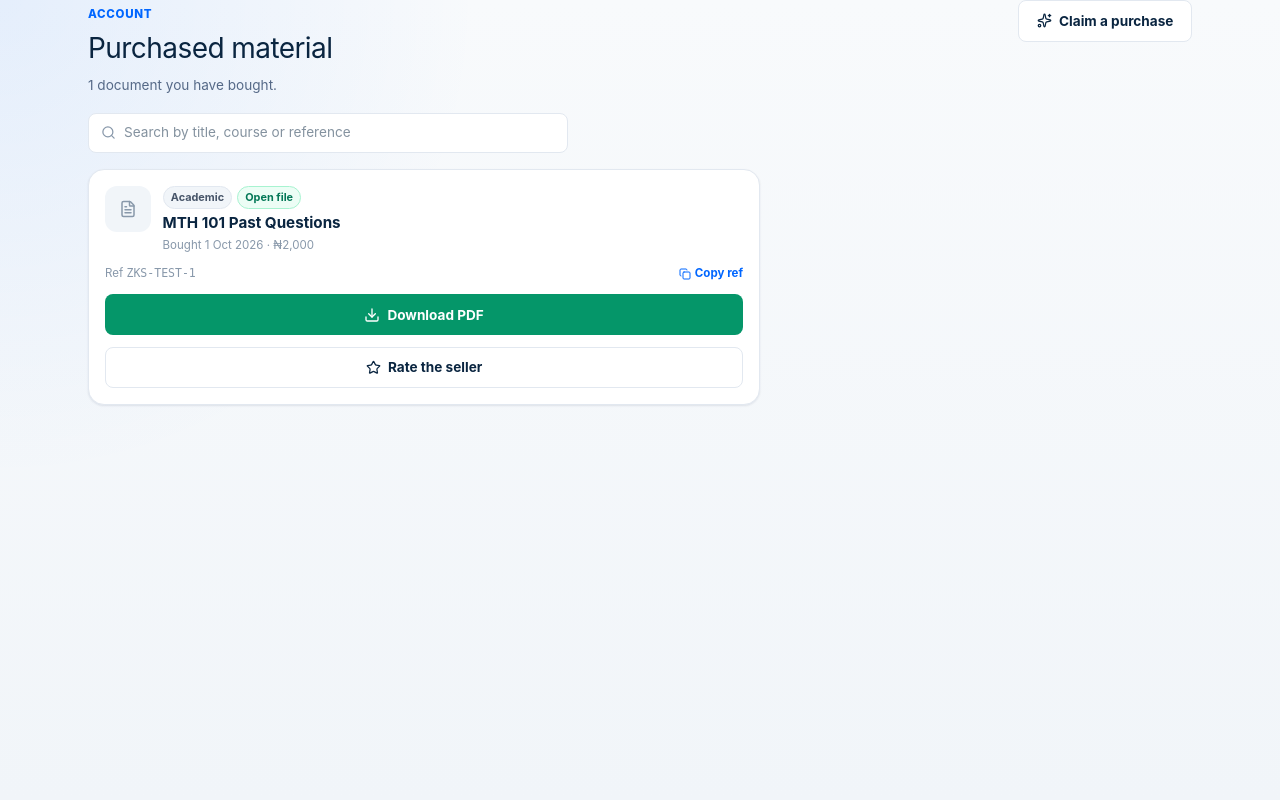
Test: Rating a seller › refuses a rating with no stars, and says why
Click the button "Rate the seller": coordinates (424, 368) x1=105 y1=347 x2=743 y2=388
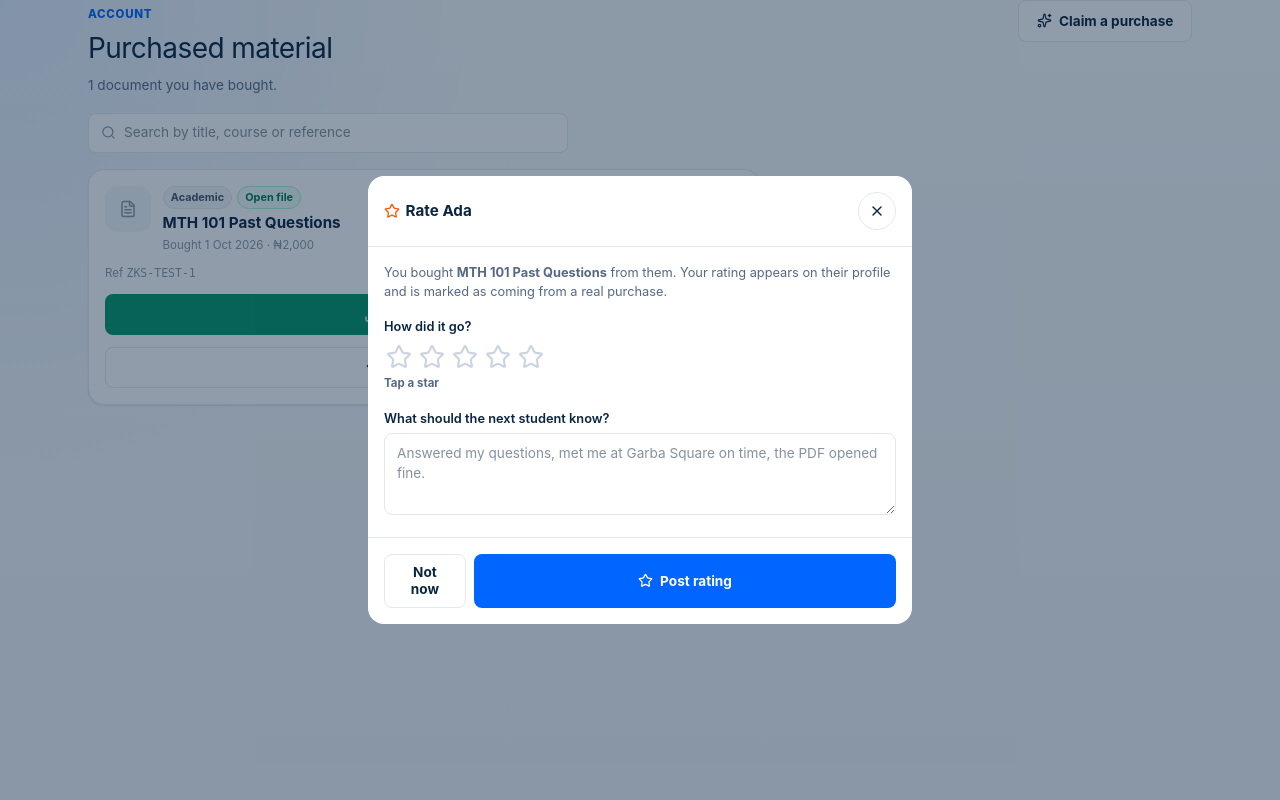
Replace the text in the text box labelled "What should the next student know?" with "Fine.": coordinates (640, 474) x1=384 y1=432 x2=896 y2=515
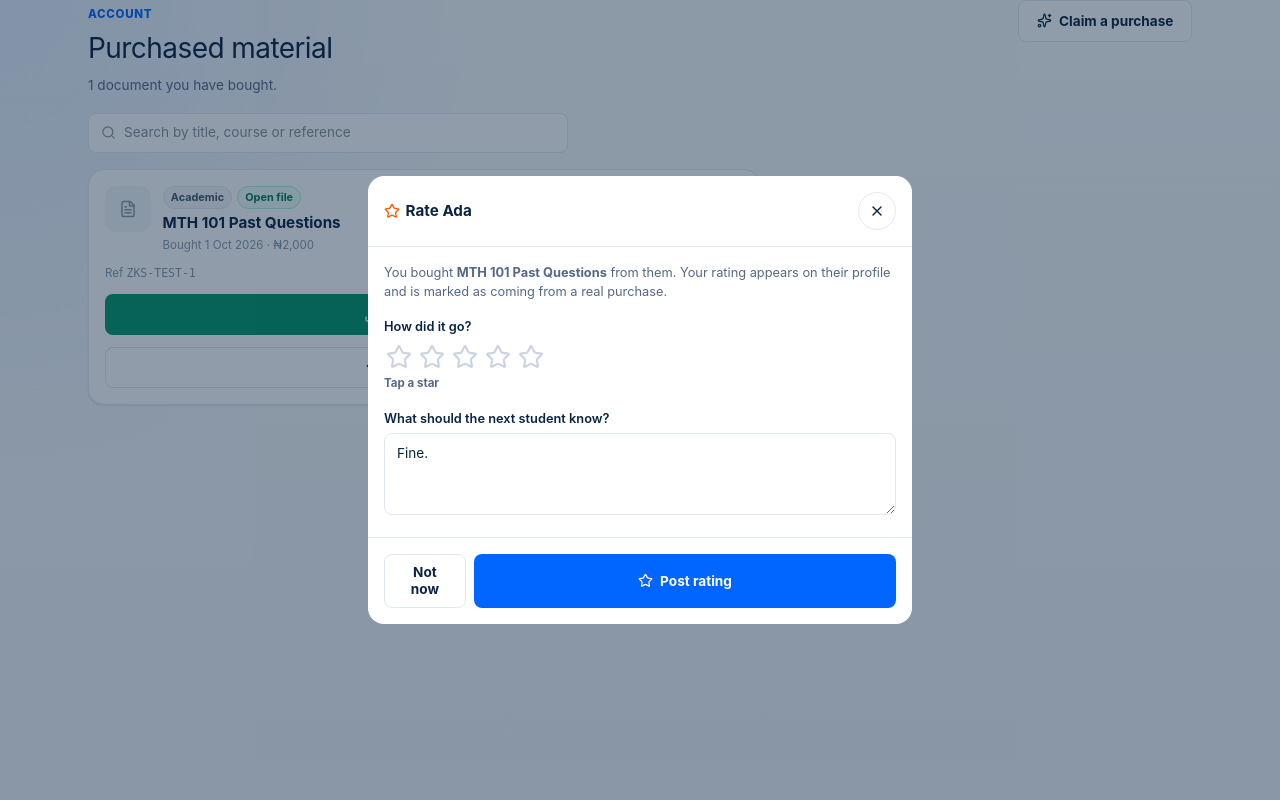
Click the button "Post rating": coordinates (685, 581) x1=474 y1=554 x2=896 y2=608
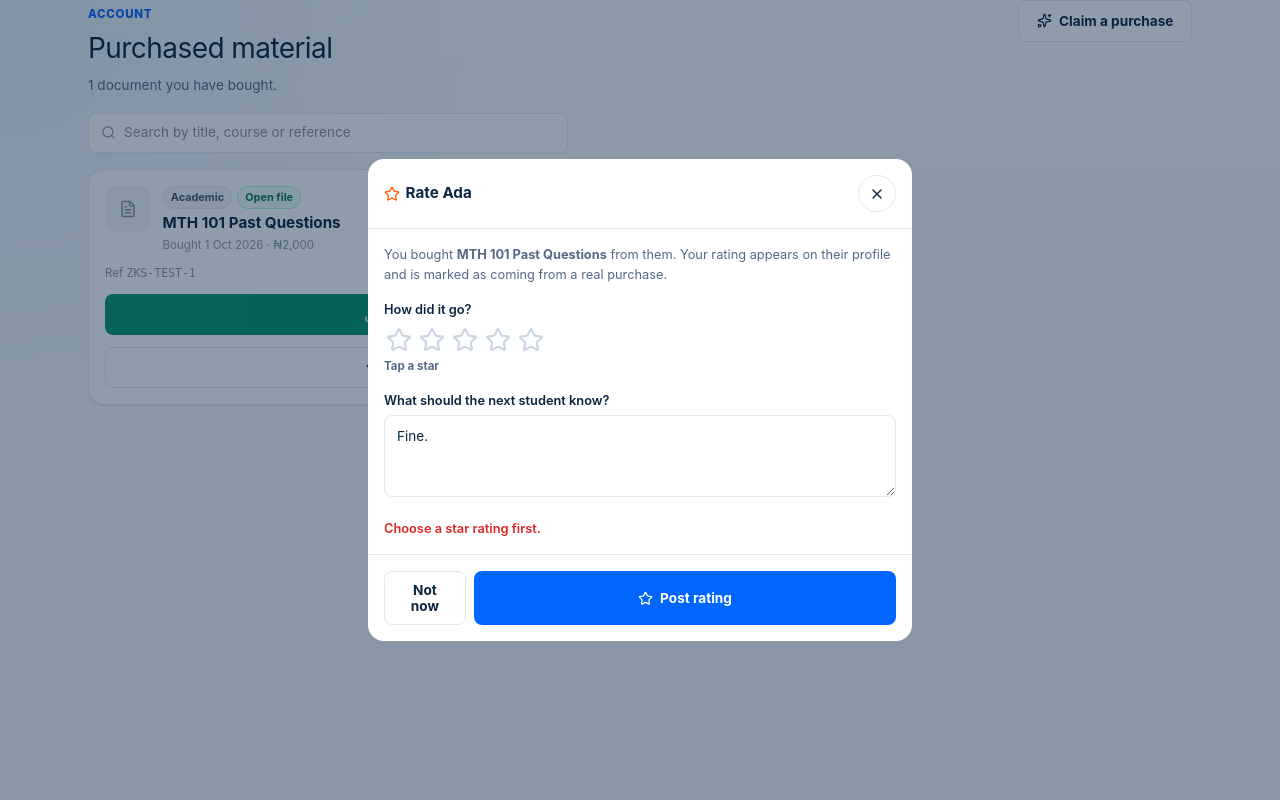
Now the message shows "Choose a star rating", box x1=384 y1=521 x2=541 y2=536
